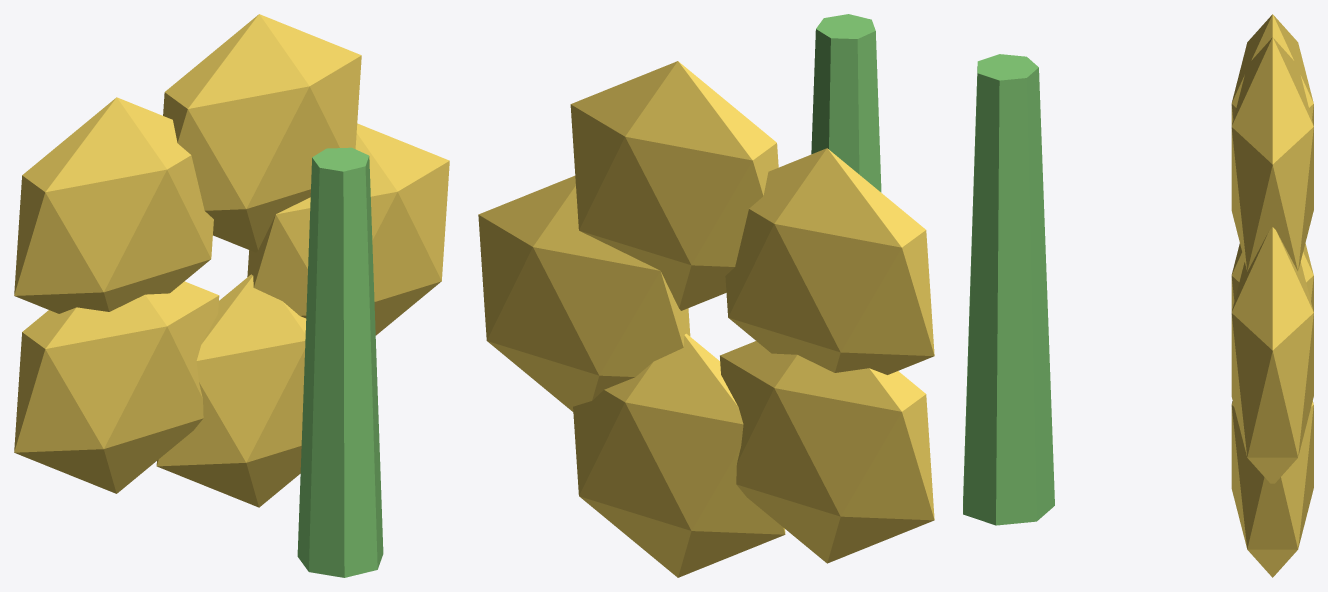
File: drk_flower.fbx
The picture shows the model from 3 angles, left to right: view 1: azimuth 30°, elevation 25°; view 2: azimuth 150°, elevation 25°; view 3: azimuth 270°, elevation 25°; orthographic projection. The views are drawn at different scales.
Visible parts, largest first — view 1: GEO-flower_petals.002, GEO-flower_stem, GEO-flower_petals.003, GEO-flower_petals.001, GEO-flower_petals.004, GEO-flower_petals; view 2: GEO-flower_petals.002, GEO-flower_petals.001, GEO-flower_petals.003, GEO-flower_petals.004, GEO-flower_petals, GEO-flower_stem; view 3: GEO-flower_stem, GEO-flower_petals, GEO-flower_petals.001, GEO-flower_petals.004, GEO-flower_petals.002, GEO-flower_petals.003.
Part boxes in pixels (x1,y1,x2,y2): GEO-flower_petals.002: [14, 97, 213, 313]; GEO-flower_stem: [297, 147, 383, 577]; GEO-flower_petals.003: [14, 281, 219, 493]; GEO-flower_petals.001: [163, 14, 361, 252]; GEO-flower_petals.004: [156, 274, 306, 507]; GEO-flower_petals: [247, 123, 449, 335]; GEO-flower_petals.002: [725, 148, 934, 374]; GEO-flower_petals.001: [570, 61, 778, 310]; GEO-flower_petals.003: [720, 341, 934, 563]; GEO-flower_petals.004: [573, 333, 785, 577]; GEO-flower_petals: [478, 175, 690, 411]; GEO-flower_stem: [811, 14, 881, 192]; GEO-flower_stem: [963, 54, 1054, 525]; GEO-flower_petals: [1231, 227, 1313, 483]; GEO-flower_petals.001: [1231, 37, 1313, 271]; GEO-flower_petals.004: [1231, 401, 1313, 577]; GEO-flower_petals.002: [1231, 14, 1313, 126]; GEO-flower_petals.003: [1231, 243, 1313, 312].
Size of the model in its own units: 68.38 by 74.04 by 43.51.
